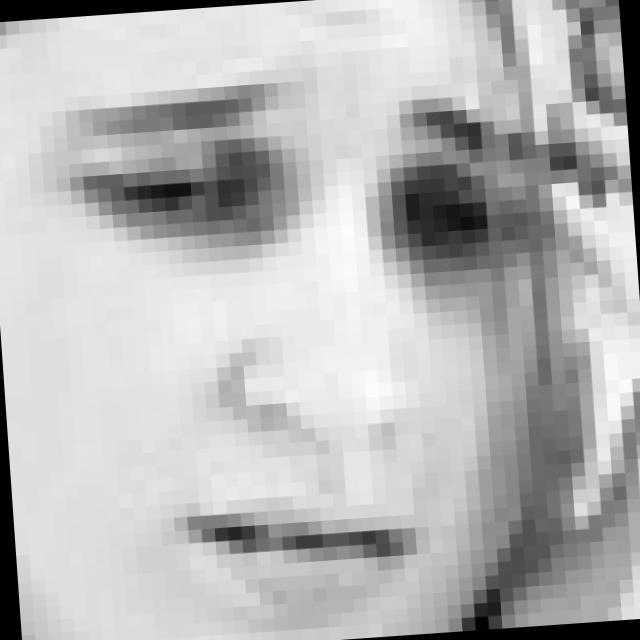sad: (41, 53, 544, 632)
